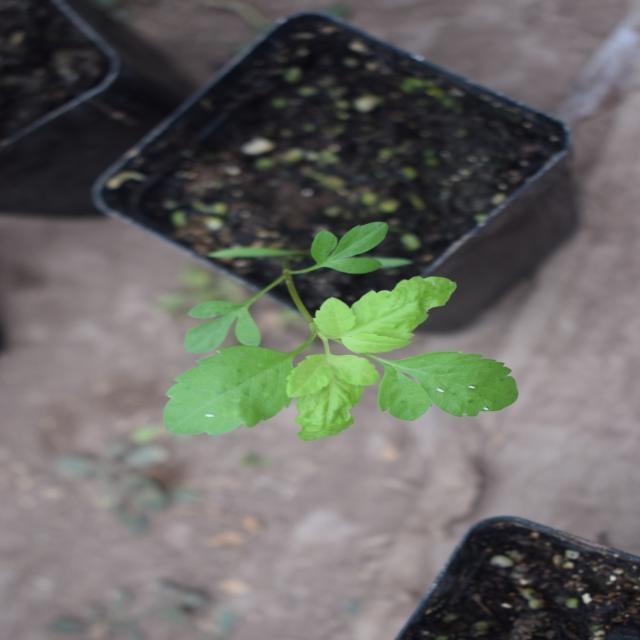Bidens pilosa: (168, 165, 420, 520)
